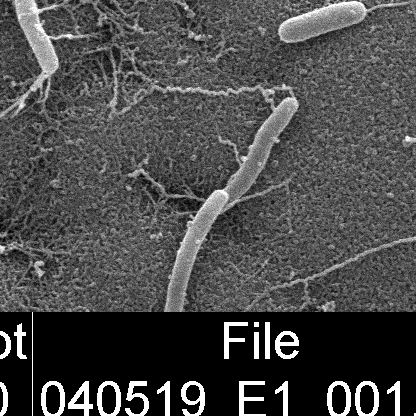cell2cell: (366, 0, 416, 11)
cell2surface: (285, 192, 416, 288), (0, 70, 48, 224), (222, 174, 307, 213), (150, 87, 279, 111), (142, 170, 205, 203), (42, 24, 111, 40), (39, 0, 107, 16)
filament: (214, 96, 298, 211), (0, 0, 59, 75)
regular: (166, 190, 231, 313), (277, 0, 368, 42)
